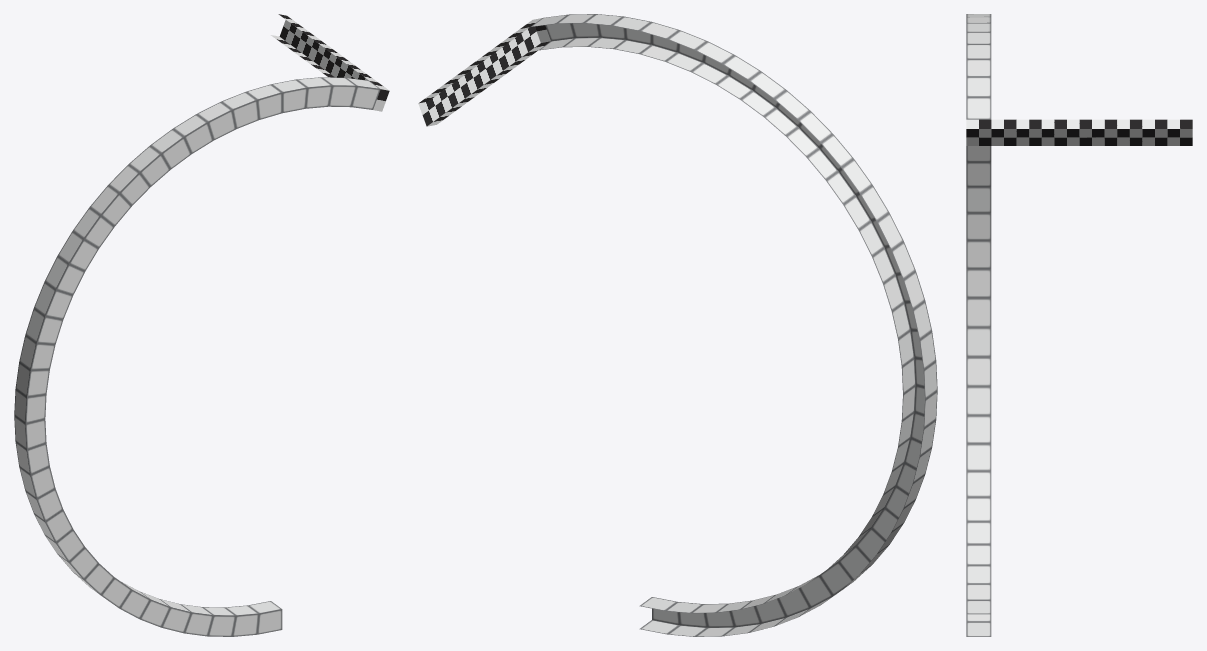
Rendered from VanillaPassTrimCurve2BM.obj.
3 views of the same model, side by side, from view 1: azimuth 30°, elevation 25°; view 2: azimuth 150°, elevation 25°; view 3: azimuth 270°, elevation 25° (orthographic). The views are drawn at different scales.
Visible parts, largest first — view 1: VanillaPassTrimCurve2BM; view 2: VanillaPassTrimCurve2BM; view 3: VanillaPassTrimCurve2BM.
Boxes of the visible parts, x1,y1,x2,y2 form: VanillaPassTrimCurve2BM: (14, 14, 389, 636); VanillaPassTrimCurve2BM: (418, 14, 937, 636); VanillaPassTrimCurve2BM: (966, 14, 1192, 636).
Bounding box in the file's own units: 9.22 × 13 × 4.5.
